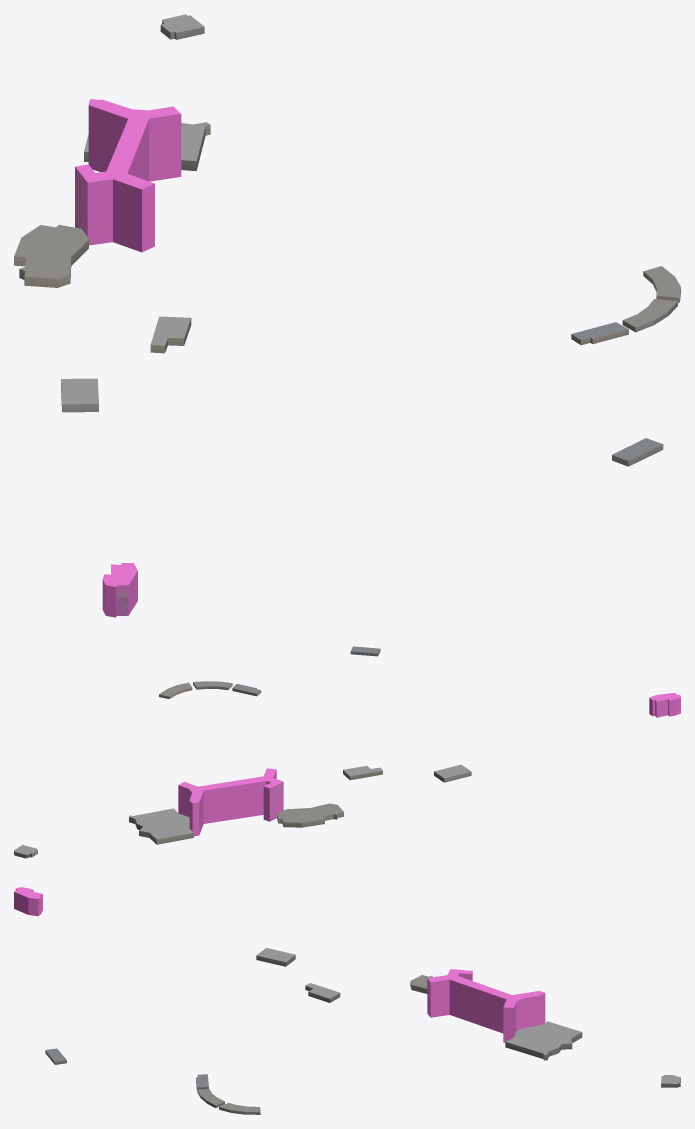
Rendered from bld_4_5.fbx.
3 renders of one model, top to bottom at view 1: azimuth 30°, elevation 25°; view 2: azimuth 150°, elevation 25°; view 3: azimuth 270°, elevation 25°, orthographic. The views are drawn at different scales.
Parts seen in each view (by area): view 1: bld_4_5_COL, bld_4_5_LOD0; view 2: bld_4_5_LOD0, bld_4_5_COL; view 3: bld_4_5_COL, bld_4_5_LOD0.
Part boxes in pixels (left/top/right/bottom): bld_4_5_COL: left=75, top=99, right=181, bottom=617; bld_4_5_LOD0: left=14, top=14, right=680, bottom=615; bld_4_5_LOD0: left=14, top=646, right=471, bottom=858; bld_4_5_COL: left=178, top=693, right=680, bottom=836; bld_4_5_COL: left=14, top=887, right=545, bottom=1042; bld_4_5_LOD0: left=45, top=948, right=680, bottom=1114.
Size of what is drawn, in the model's own units: 1159 by 90.51 by 1550.
